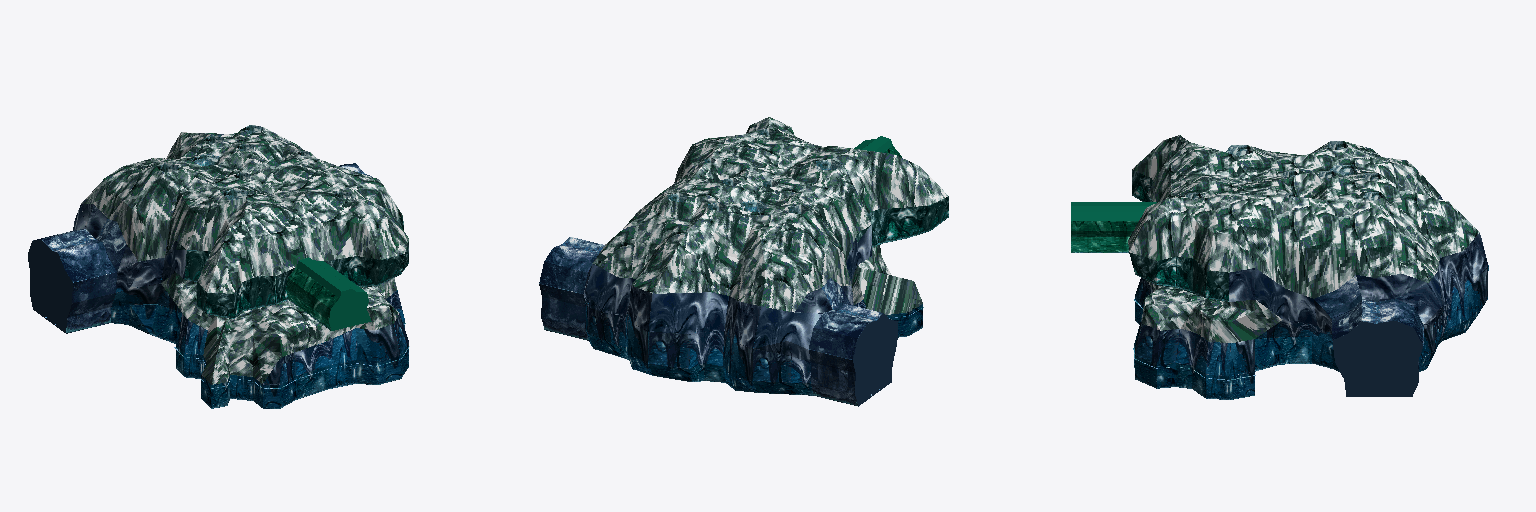
3 views of the same model, side by side, from view 1: azimuth 30°, elevation 25°; view 2: azimuth 150°, elevation 25°; view 3: azimuth 270°, elevation 25° (orthographic).
Parts seen in each view (by area): view 1: c800; view 2: c800; view 3: c800.
Boxes of the visible parts, x1=… form: c800: x1=28, y1=125, x2=408, y2=408; c800: x1=539, y1=117, x2=948, y2=406; c800: x1=1071, y1=135, x2=1488, y2=399.
Size of the model in its own units: 5480 by 2931 by 6301.
Materials: 34 (34 with a texture image).